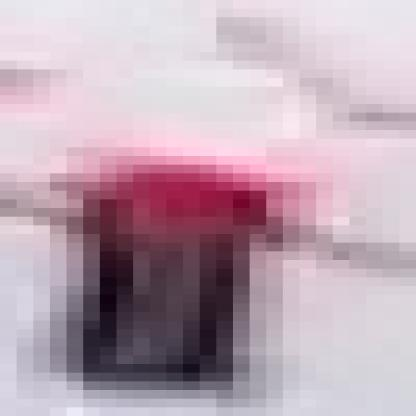Red Light: (97, 160, 249, 374)
